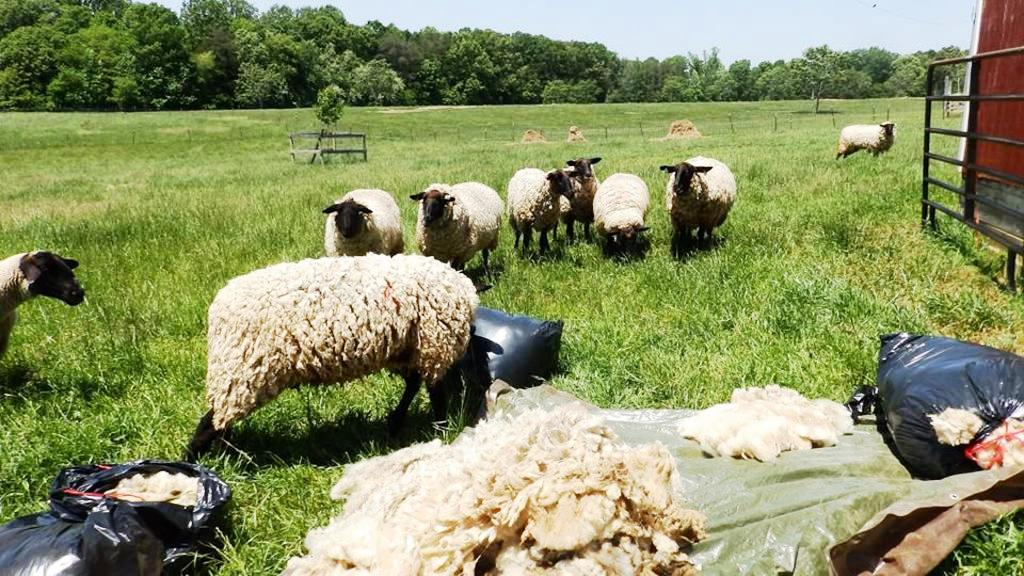Sheep: (186, 242, 484, 444), (409, 169, 503, 290), (0, 254, 87, 364), (659, 153, 743, 257), (319, 187, 410, 268), (503, 159, 570, 256), (591, 169, 660, 261), (557, 151, 606, 240), (837, 119, 894, 162)
